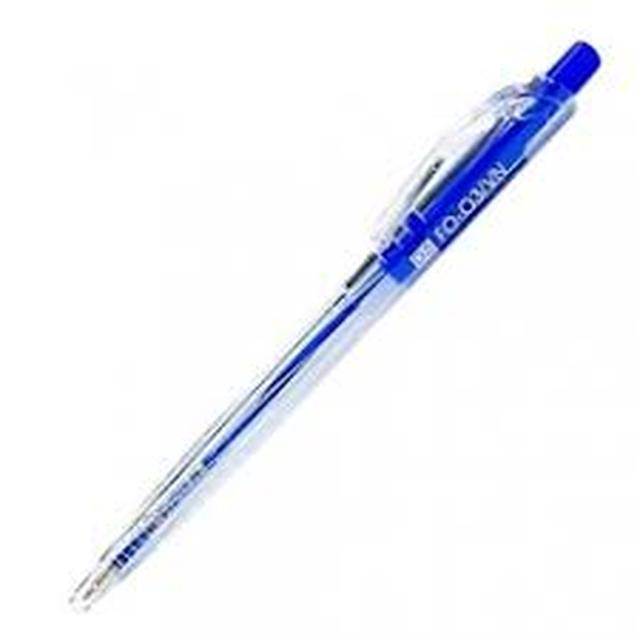pen: (29, 33, 626, 632)
